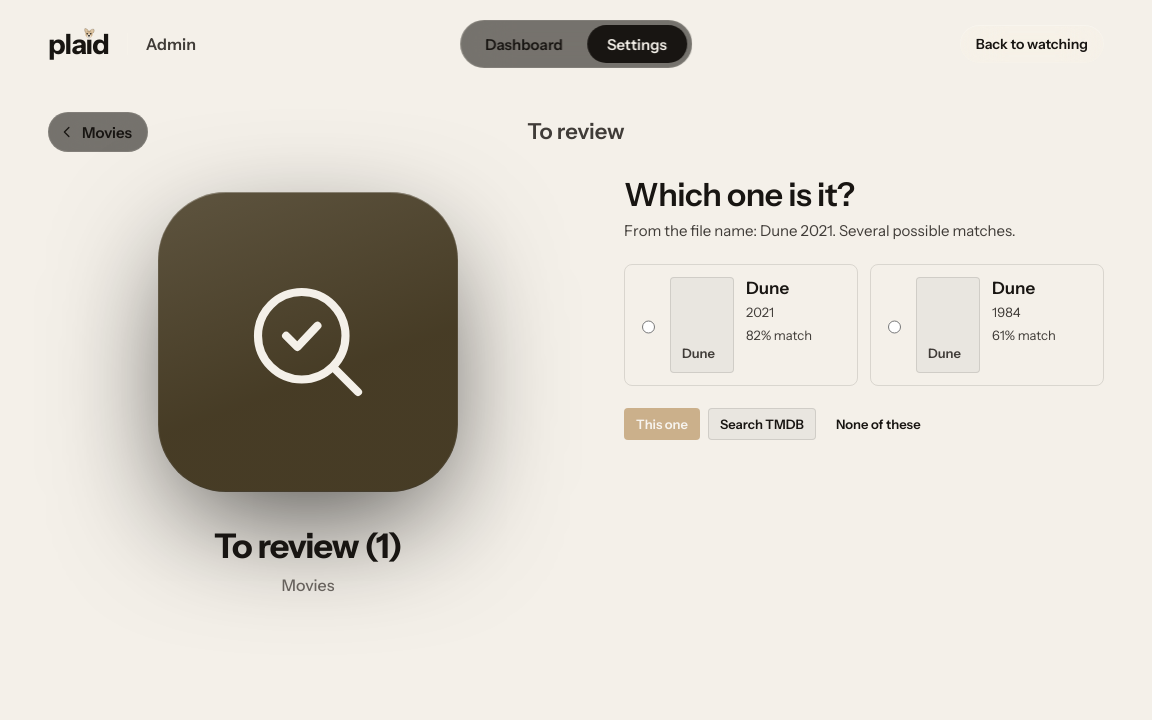
libraries › matches an item to the chosen TMDB candidate
expect the text "82% match" is shown: met, box x1=746 y1=326 x2=812 y2=345
Click the radio button labelled "Dune Dune 1984 61% match": [894, 327] box x1=888 y1=281 x2=901 y2=373
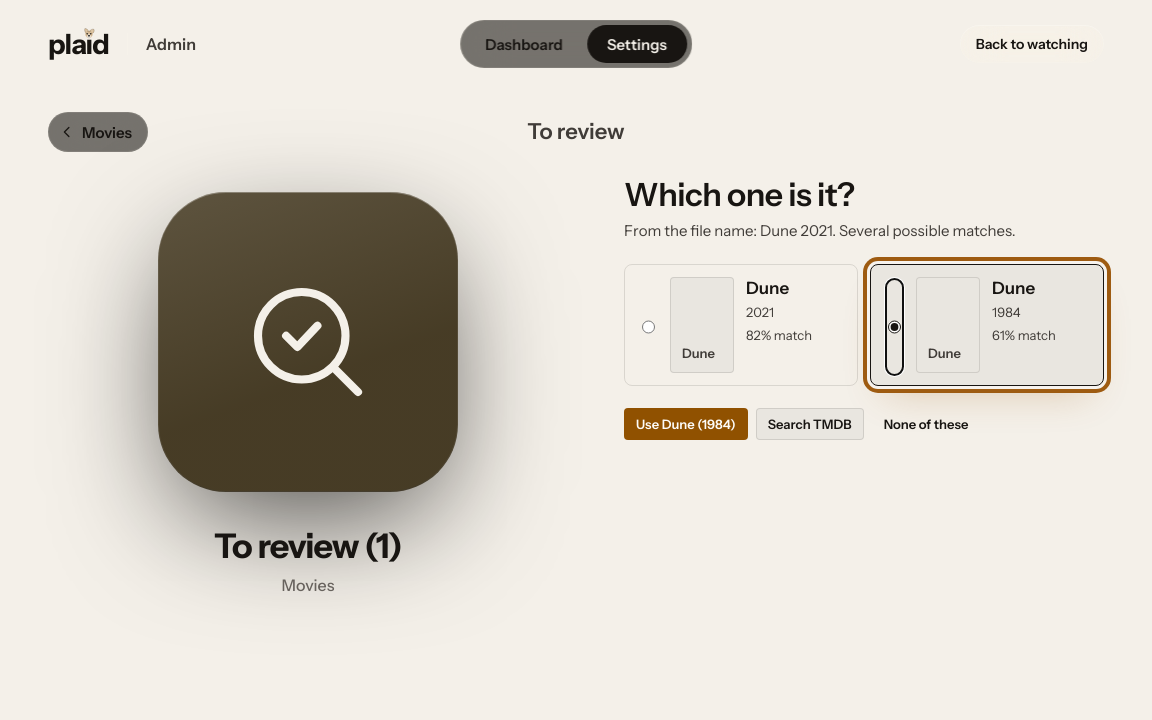
Click the button "Use Dune (1984)": [686, 424] box x1=624 y1=408 x2=748 y2=440
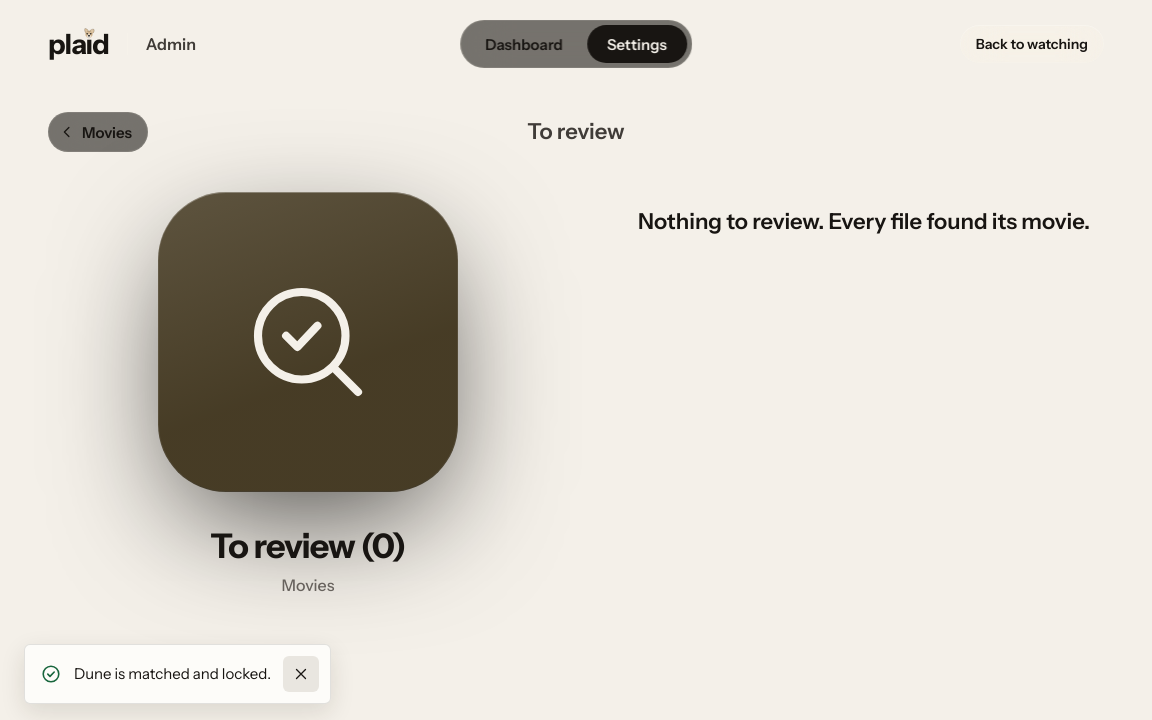
expect the text "Dune is matched and locked." is shown: met, box x1=74 y1=664 x2=271 y2=684
